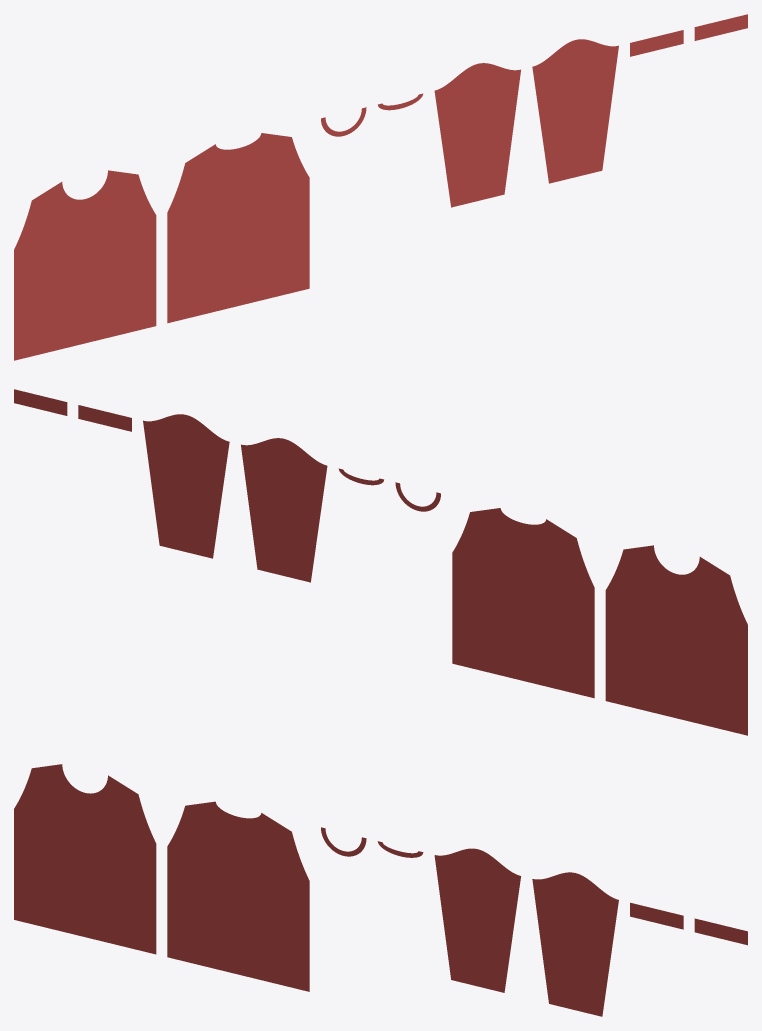
Rendered from camisa-interior-cepillado-talla-XL.glb.
3 views of the same model, one above another, from view 1: azimuth 30°, elevation 25°; view 2: azimuth 150°, elevation 25°; view 3: azimuth 330°, elevation 25° (orthographic).
Visible parts, largest first — view 1: patron-espalda, patron-delantero, patron-manga-der, patron-manga-izq, patron-puno-der, patron-puno-izq; view 2: patron-espalda, patron-delantero, patron-manga-der, patron-manga-izq, patron-puno-der, patron-puno-izq; view 3: patron-espalda, patron-delantero, patron-manga-der, patron-manga-izq, patron-puno-izq, patron-puno-der.
Boxes of the visible parts, x1,y1,x2,y2 form: patron-espalda: (167, 133, 309, 323); patron-delantero: (14, 170, 156, 360); patron-manga-der: (532, 39, 618, 183); patron-manga-izq: (434, 63, 520, 207); patron-puno-der: (694, 14, 747, 40); patron-puno-izq: (630, 30, 683, 56); patron-espalda: (452, 508, 594, 698); patron-delantero: (605, 545, 747, 735); patron-manga-der: (143, 414, 229, 558); patron-manga-izq: (241, 438, 327, 582); patron-puno-der: (14, 389, 67, 415); patron-puno-izq: (78, 405, 131, 431); patron-espalda: (167, 801, 309, 991); patron-delantero: (14, 764, 156, 954); patron-manga-der: (532, 872, 618, 1016); patron-manga-izq: (434, 848, 520, 992); patron-puno-izq: (630, 902, 683, 929); patron-puno-der: (694, 918, 747, 945).
Bounding box in the file's own units: 3.3 × 0.79 × 0.
